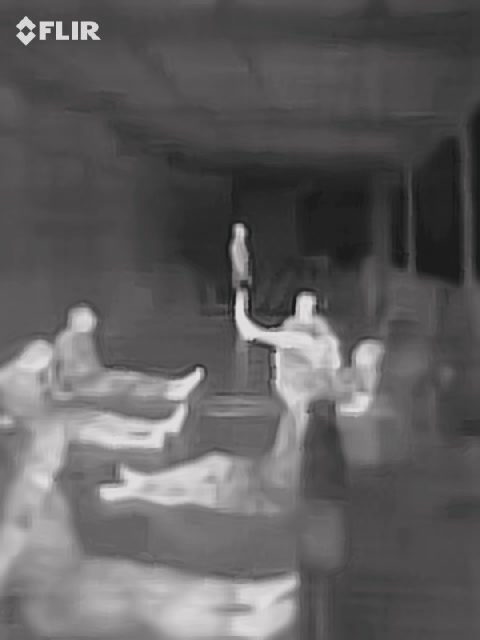head: (21, 336, 54, 381)
